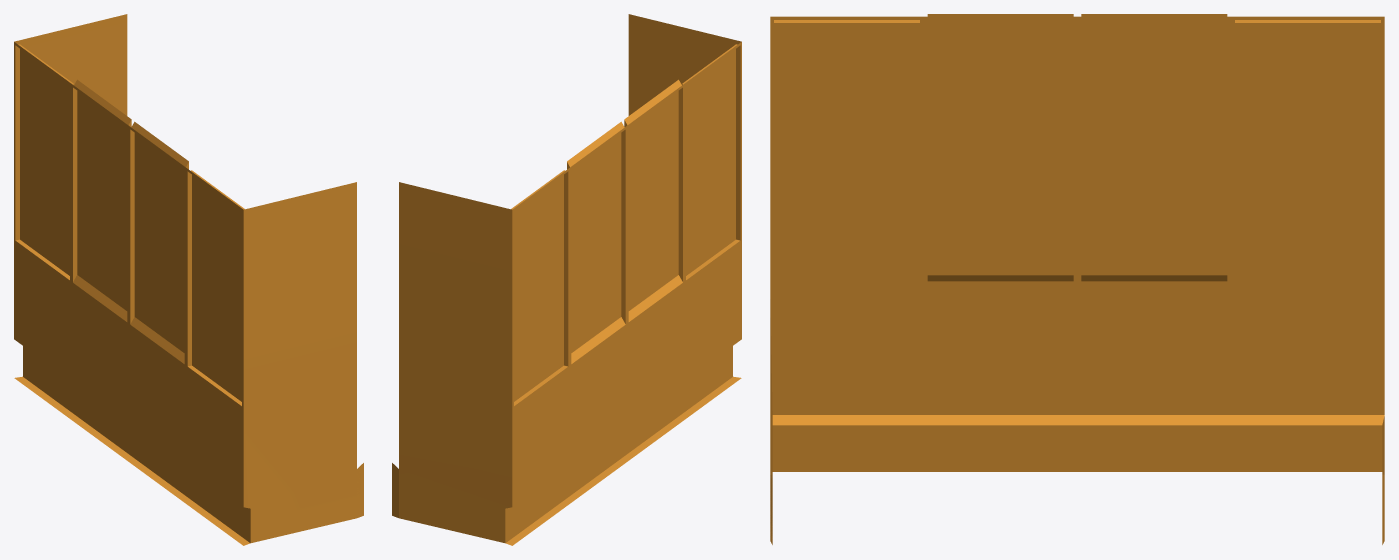
The model's file is balcony 7_2.fbx.
3 views of the same model, side by side, from view 1: azimuth 30°, elevation 25°; view 2: azimuth 150°, elevation 25°; view 3: azimuth 270°, elevation 25° (orthographic). The views are drawn at different scales.
Visible parts, largest first — view 1: balcony, balcony.001; view 2: balcony, balcony.001; view 3: balcony.001, balcony.
Part boxes in pixels (left/top/right/bottom): balcony: left=14, top=14, right=363, bottom=545; balcony.001: left=20, top=49, right=241, bottom=401; balcony: left=392, top=14, right=741, bottom=545; balcony.001: left=514, top=49, right=735, bottom=401; balcony.001: left=774, top=14, right=1380, bottom=284; balcony: left=770, top=16, right=1384, bottom=544.
Bounding box in the file's own units: 96.27 × 258 × 315.
